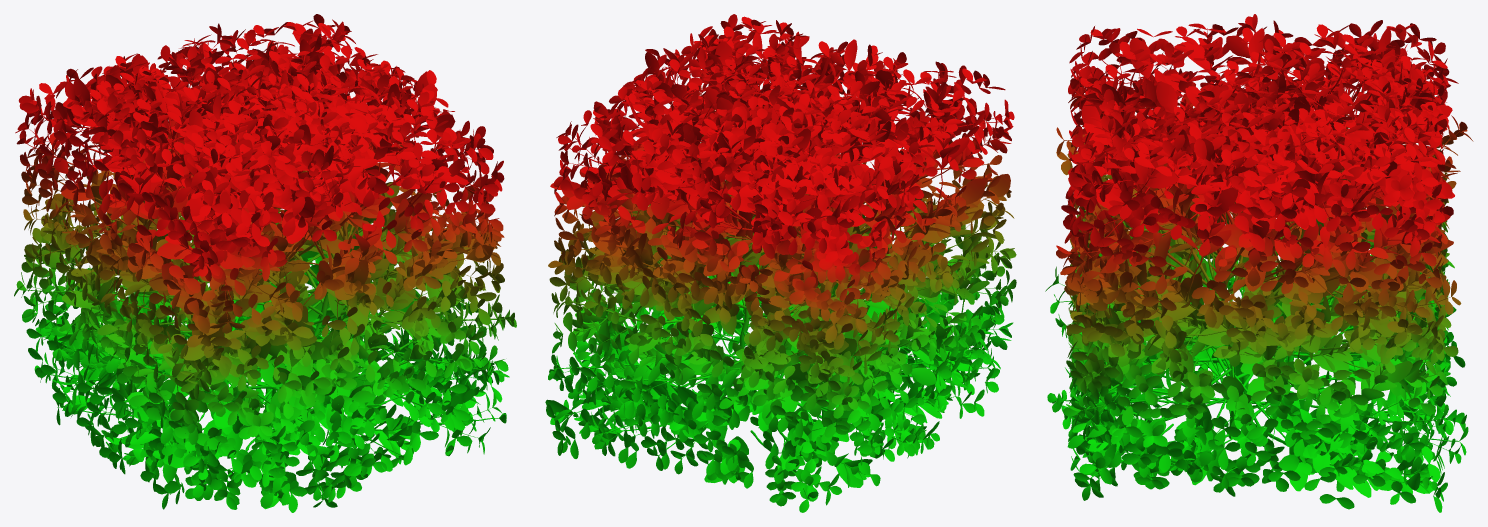
File: Var6_LOD0.fbx
3 renders of one model, left to right at view 1: azimuth 30°, elevation 25°; view 2: azimuth 150°, elevation 25°; view 3: azimuth 270°, elevation 25°, orthographic. The views are drawn at different scales.
Parts seen in each view (by area): view 1: _nffx_Var6_LOD0; view 2: _nffx_Var6_LOD0; view 3: _nffx_Var6_LOD0.
Part boxes in pixels (x1=…): _nffx_Var6_LOD0: x1=14, y1=14, x2=516, y2=512; _nffx_Var6_LOD0: x1=545, y1=14, x2=1016, y2=512; _nffx_Var6_LOD0: x1=1045, y1=14, x2=1473, y2=512.
Bounding box in the file's own units: 62.84 × 60.22 × 63.85.
